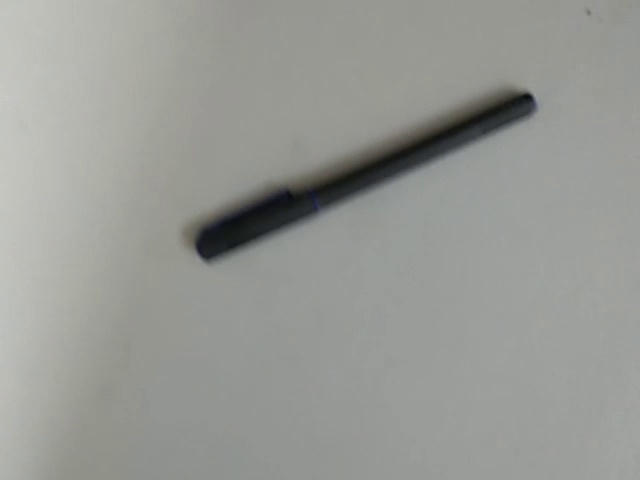Pen: (171, 68, 571, 289)
